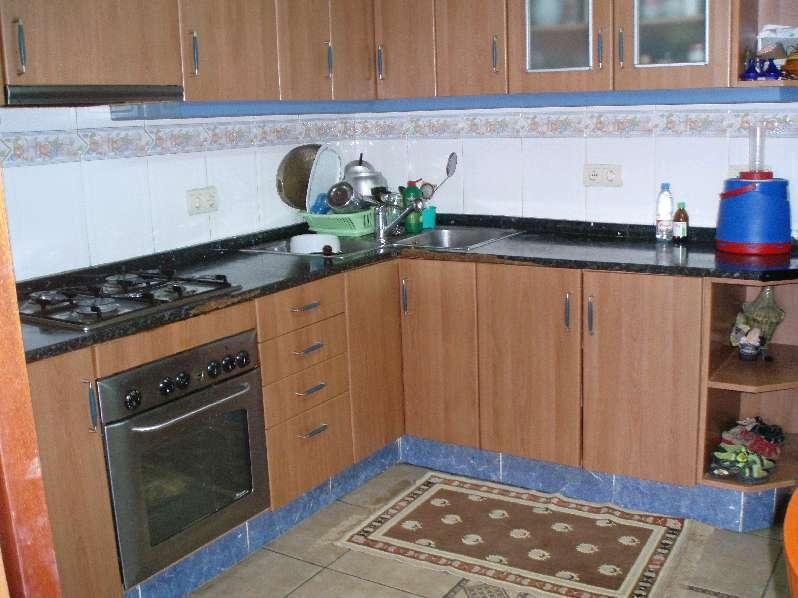Electrodomestico: (86, 324, 275, 589)
Lavaplatos: (365, 186, 530, 264)
